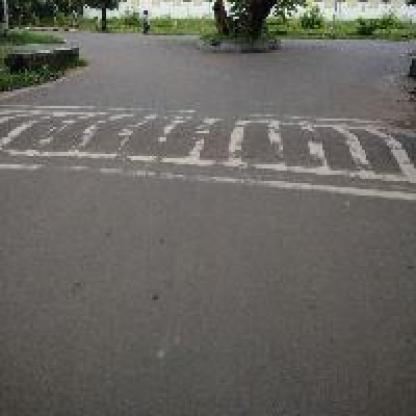Speed Bump: (0, 98, 414, 204)
